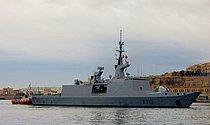MIL_Ship: (28, 27, 203, 109)
